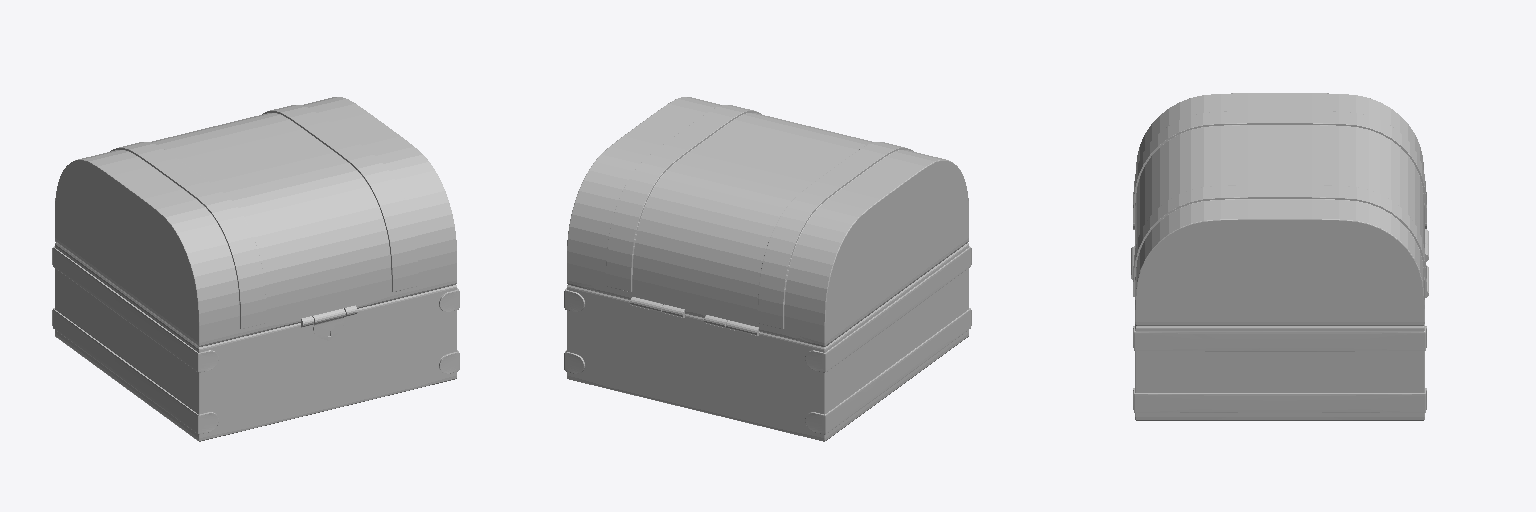
The model's file is chest.obj.
The picture shows the model from 3 angles: view 1: azimuth 30°, elevation 25°; view 2: azimuth 150°, elevation 25°; view 3: azimuth 270°, elevation 25°; orthographic projection.
Parts seen in each view (by area): view 1: chest; view 2: chest; view 3: chest.
Part boxes in pixels (bbox=[...]): chest: bbox=[52, 97, 459, 441]; chest: bbox=[564, 97, 971, 441]; chest: bbox=[1131, 93, 1428, 420].
Size of the model in its own units: 8.51 by 6.31 by 8.38.